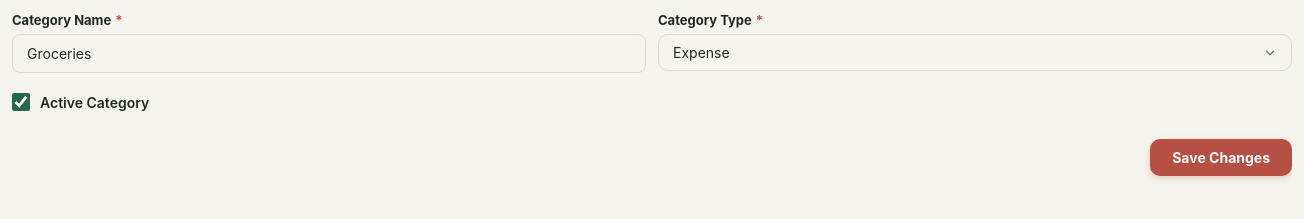
EditCategoryForm › displays client-side validation error when name is blank
Clear the field labelled "Category Name *" at (329, 54), box 12,34 -> 646,73
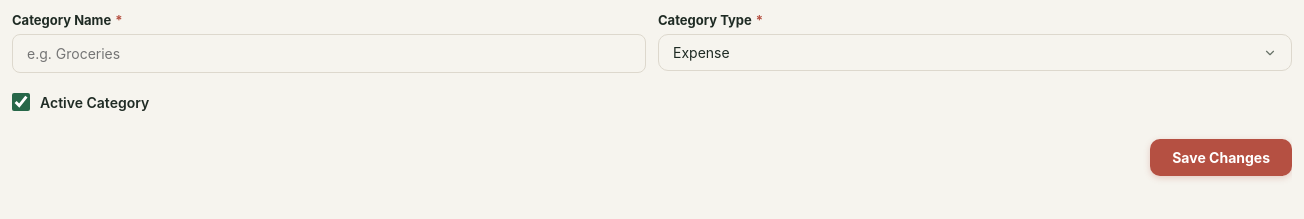
Click the button "Save Changes".
click(1221, 158)  # box 1150,139 -> 1292,176
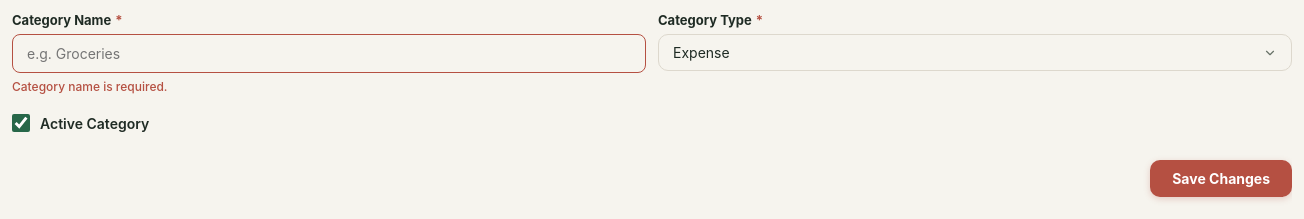
Result: the text "Category name is required." is shown at 12,79 -> 168,94
